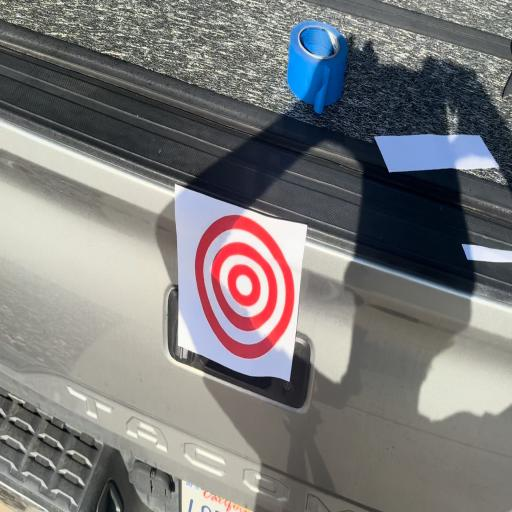bullseye: (188, 191, 306, 379)
